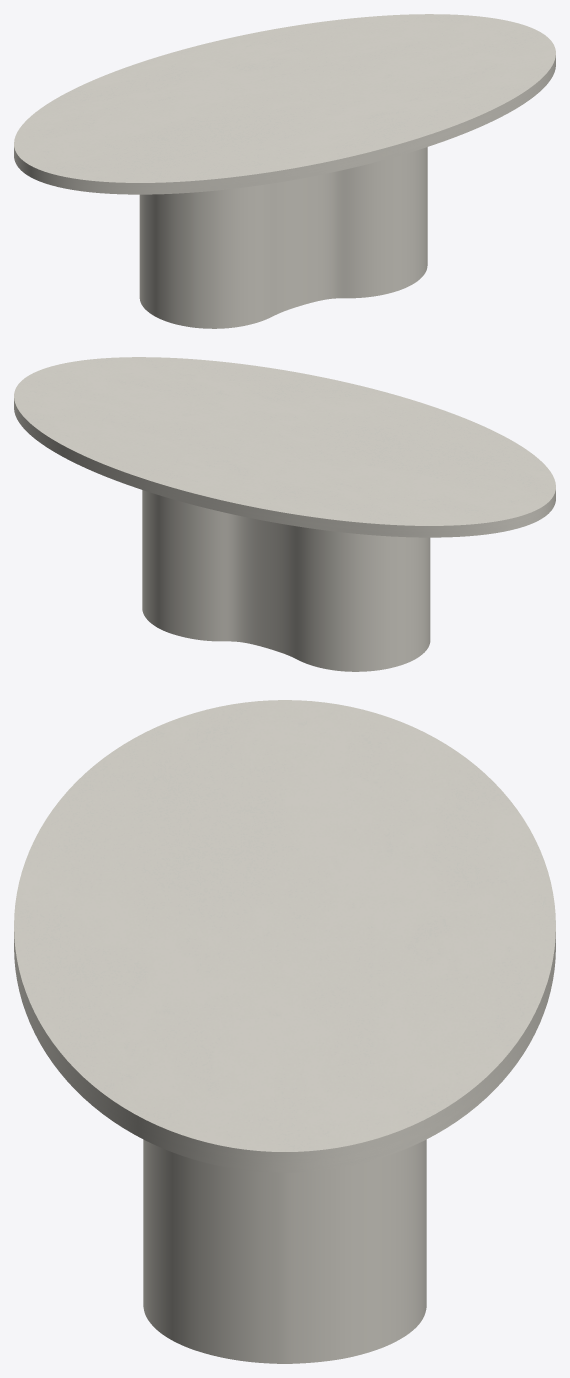
The model's file is pale_ellips_standard_riverwave.glb.
The picture shows the model from 3 angles, top to bottom: view 1: azimuth 30°, elevation 25°; view 2: azimuth 150°, elevation 25°; view 3: azimuth 270°, elevation 25°; orthographic projection. The views are drawn at different scales.
Visible parts, largest first — view 1: standard_ellips, riverwave; view 2: standard_ellips, riverwave; view 3: standard_ellips, riverwave.
Part boxes in pixels (x1=…): standard_ellips: x1=14, y1=14, x2=555, y2=194; riverwave: x1=139, y1=147, x2=427, y2=328; standard_ellips: x1=14, y1=357, x2=555, y2=537; riverwave: x1=142, y1=490, x2=430, y2=671; standard_ellips: x1=14, y1=700, x2=555, y2=1172; riverwave: x1=143, y1=1139, x2=426, y2=1363.
Bounding box in the file's own units: 7.5 × 2.5 × 3.8.
1 material, 1 textured.
